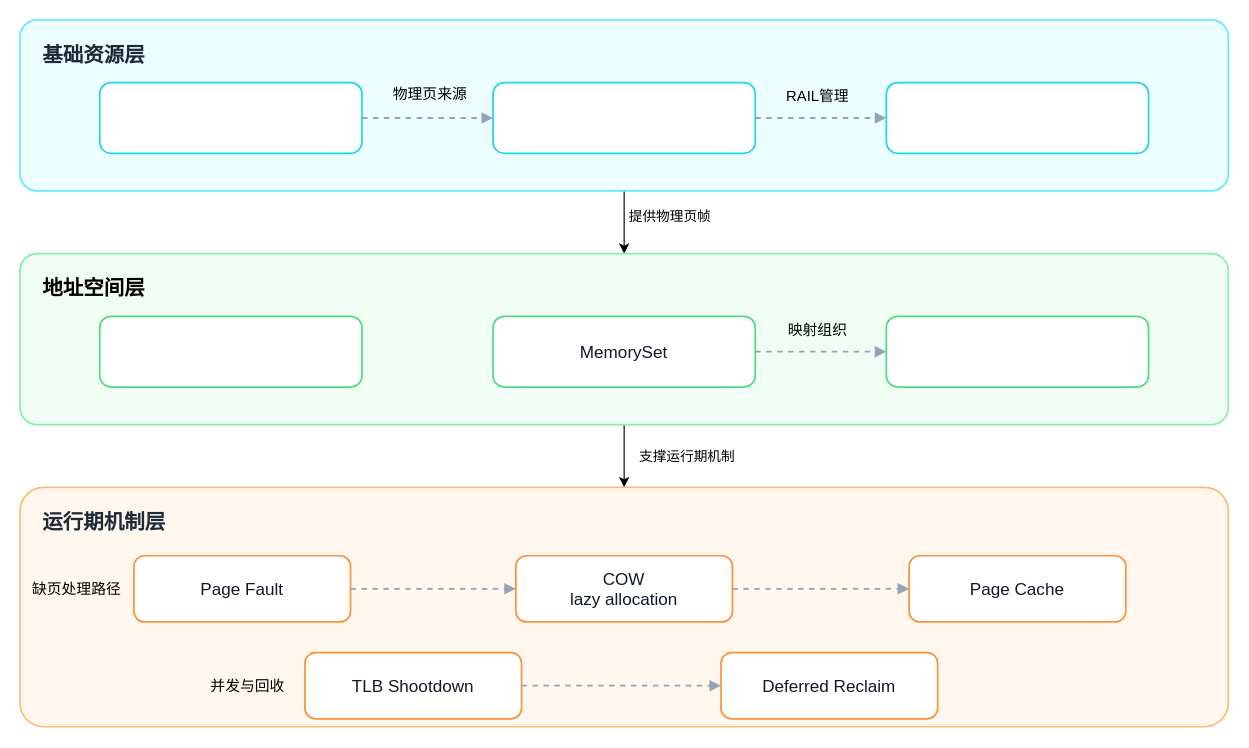
Some shapes in this 1249 by 748 pixel diagram are drawn without their labels. The box of each missing label's shape, as (x1, y1, x2, y2) in pixels:
bootinfo usable regions: (98, 81, 362, 154)
BuddyFrameAllocator: (492, 81, 756, 154)
FrameTracker: (885, 81, 1149, 154)
KERNEL_SPACE: (98, 315, 362, 387)
VMA + PageTable: (885, 315, 1149, 387)
